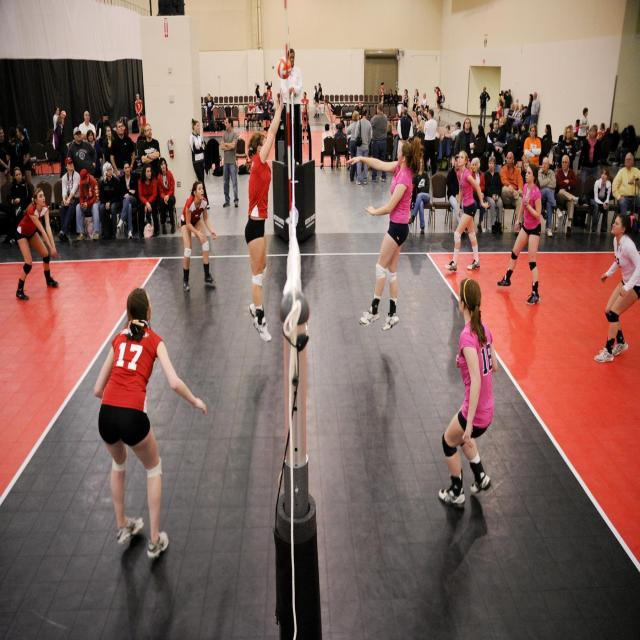body: (90, 284, 210, 561), (345, 134, 426, 333), (437, 276, 499, 511), (242, 87, 286, 346), (406, 89, 518, 162), (592, 211, 640, 364), (496, 161, 542, 307), (444, 149, 491, 272), (15, 187, 59, 300), (180, 179, 218, 292), (552, 118, 627, 168), (279, 47, 303, 165), (555, 153, 586, 238), (6, 166, 34, 246), (498, 150, 524, 236), (538, 156, 564, 238), (98, 160, 124, 241), (188, 116, 210, 210), (57, 156, 81, 242), (576, 124, 604, 197), (75, 167, 102, 242), (332, 121, 373, 170), (520, 156, 550, 222), (116, 160, 140, 240), (611, 152, 640, 218), (99, 116, 148, 155), (408, 157, 431, 235), (137, 162, 160, 239), (220, 115, 239, 208), (446, 153, 467, 237), (587, 166, 612, 235), (483, 155, 503, 235), (109, 120, 136, 179), (156, 156, 176, 234), (66, 126, 97, 176), (369, 101, 388, 182), (354, 106, 372, 185), (470, 156, 487, 234), (486, 118, 509, 174), (138, 122, 161, 176), (421, 109, 438, 177), (249, 90, 277, 130), (345, 110, 360, 182), (454, 117, 478, 162), (612, 125, 637, 168), (16, 123, 33, 186), (0, 126, 13, 203), (522, 123, 542, 171), (86, 129, 104, 180), (557, 124, 576, 170), (491, 115, 508, 166), (513, 121, 530, 166), (333, 121, 348, 168), (575, 107, 590, 152), (320, 122, 334, 170), (397, 106, 414, 144), (258, 92, 274, 132), (54, 114, 68, 159), (323, 98, 338, 139), (78, 110, 97, 142), (477, 86, 491, 128), (102, 125, 116, 165), (95, 111, 109, 150), (205, 92, 218, 134), (427, 130, 439, 171), (440, 120, 462, 142), (44, 128, 56, 166), (134, 92, 144, 137), (401, 105, 414, 138), (507, 102, 520, 134), (412, 119, 427, 146), (301, 103, 310, 144), (512, 103, 523, 136), (504, 103, 515, 133), (542, 124, 552, 157), (433, 85, 442, 120), (516, 106, 528, 132), (524, 94, 534, 125), (531, 92, 540, 126), (52, 106, 61, 134), (439, 123, 453, 141), (317, 82, 324, 115), (412, 88, 419, 120), (313, 85, 319, 118), (247, 100, 256, 121), (402, 89, 410, 112), (503, 88, 512, 108), (508, 124, 518, 142), (266, 84, 272, 111), (301, 92, 309, 110), (380, 82, 386, 106), (383, 89, 390, 107), (393, 90, 399, 109), (387, 122, 394, 138), (388, 88, 394, 105), (422, 92, 428, 109), (356, 101, 363, 115), (255, 84, 261, 99)
